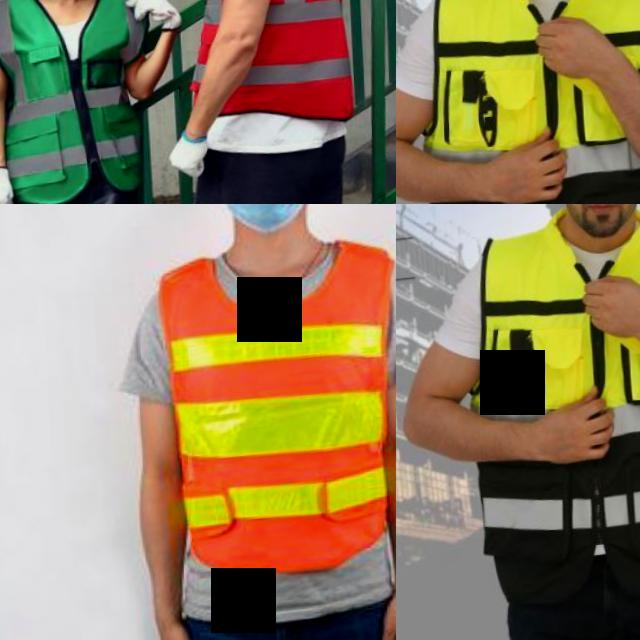vest: (150, 243, 396, 596), (420, 0, 640, 191), (467, 215, 640, 450), (0, 0, 138, 203), (217, 0, 349, 130)
